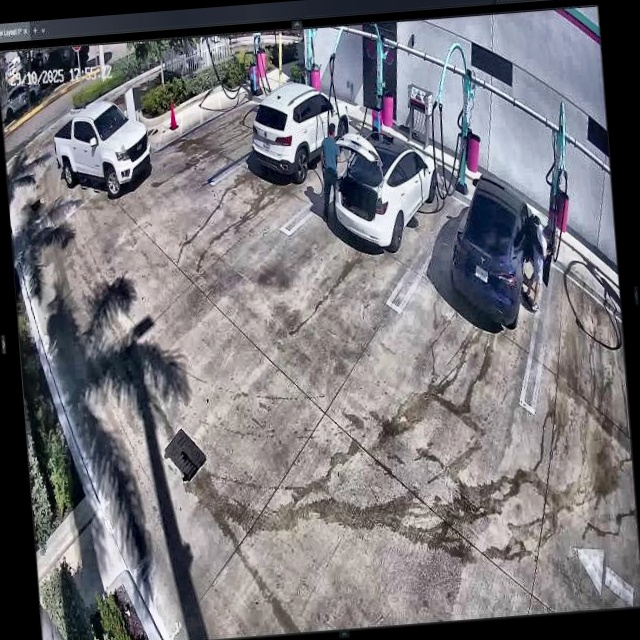Car: (440, 167, 544, 336), (322, 121, 441, 255), (249, 86, 351, 188), (51, 98, 153, 199)
